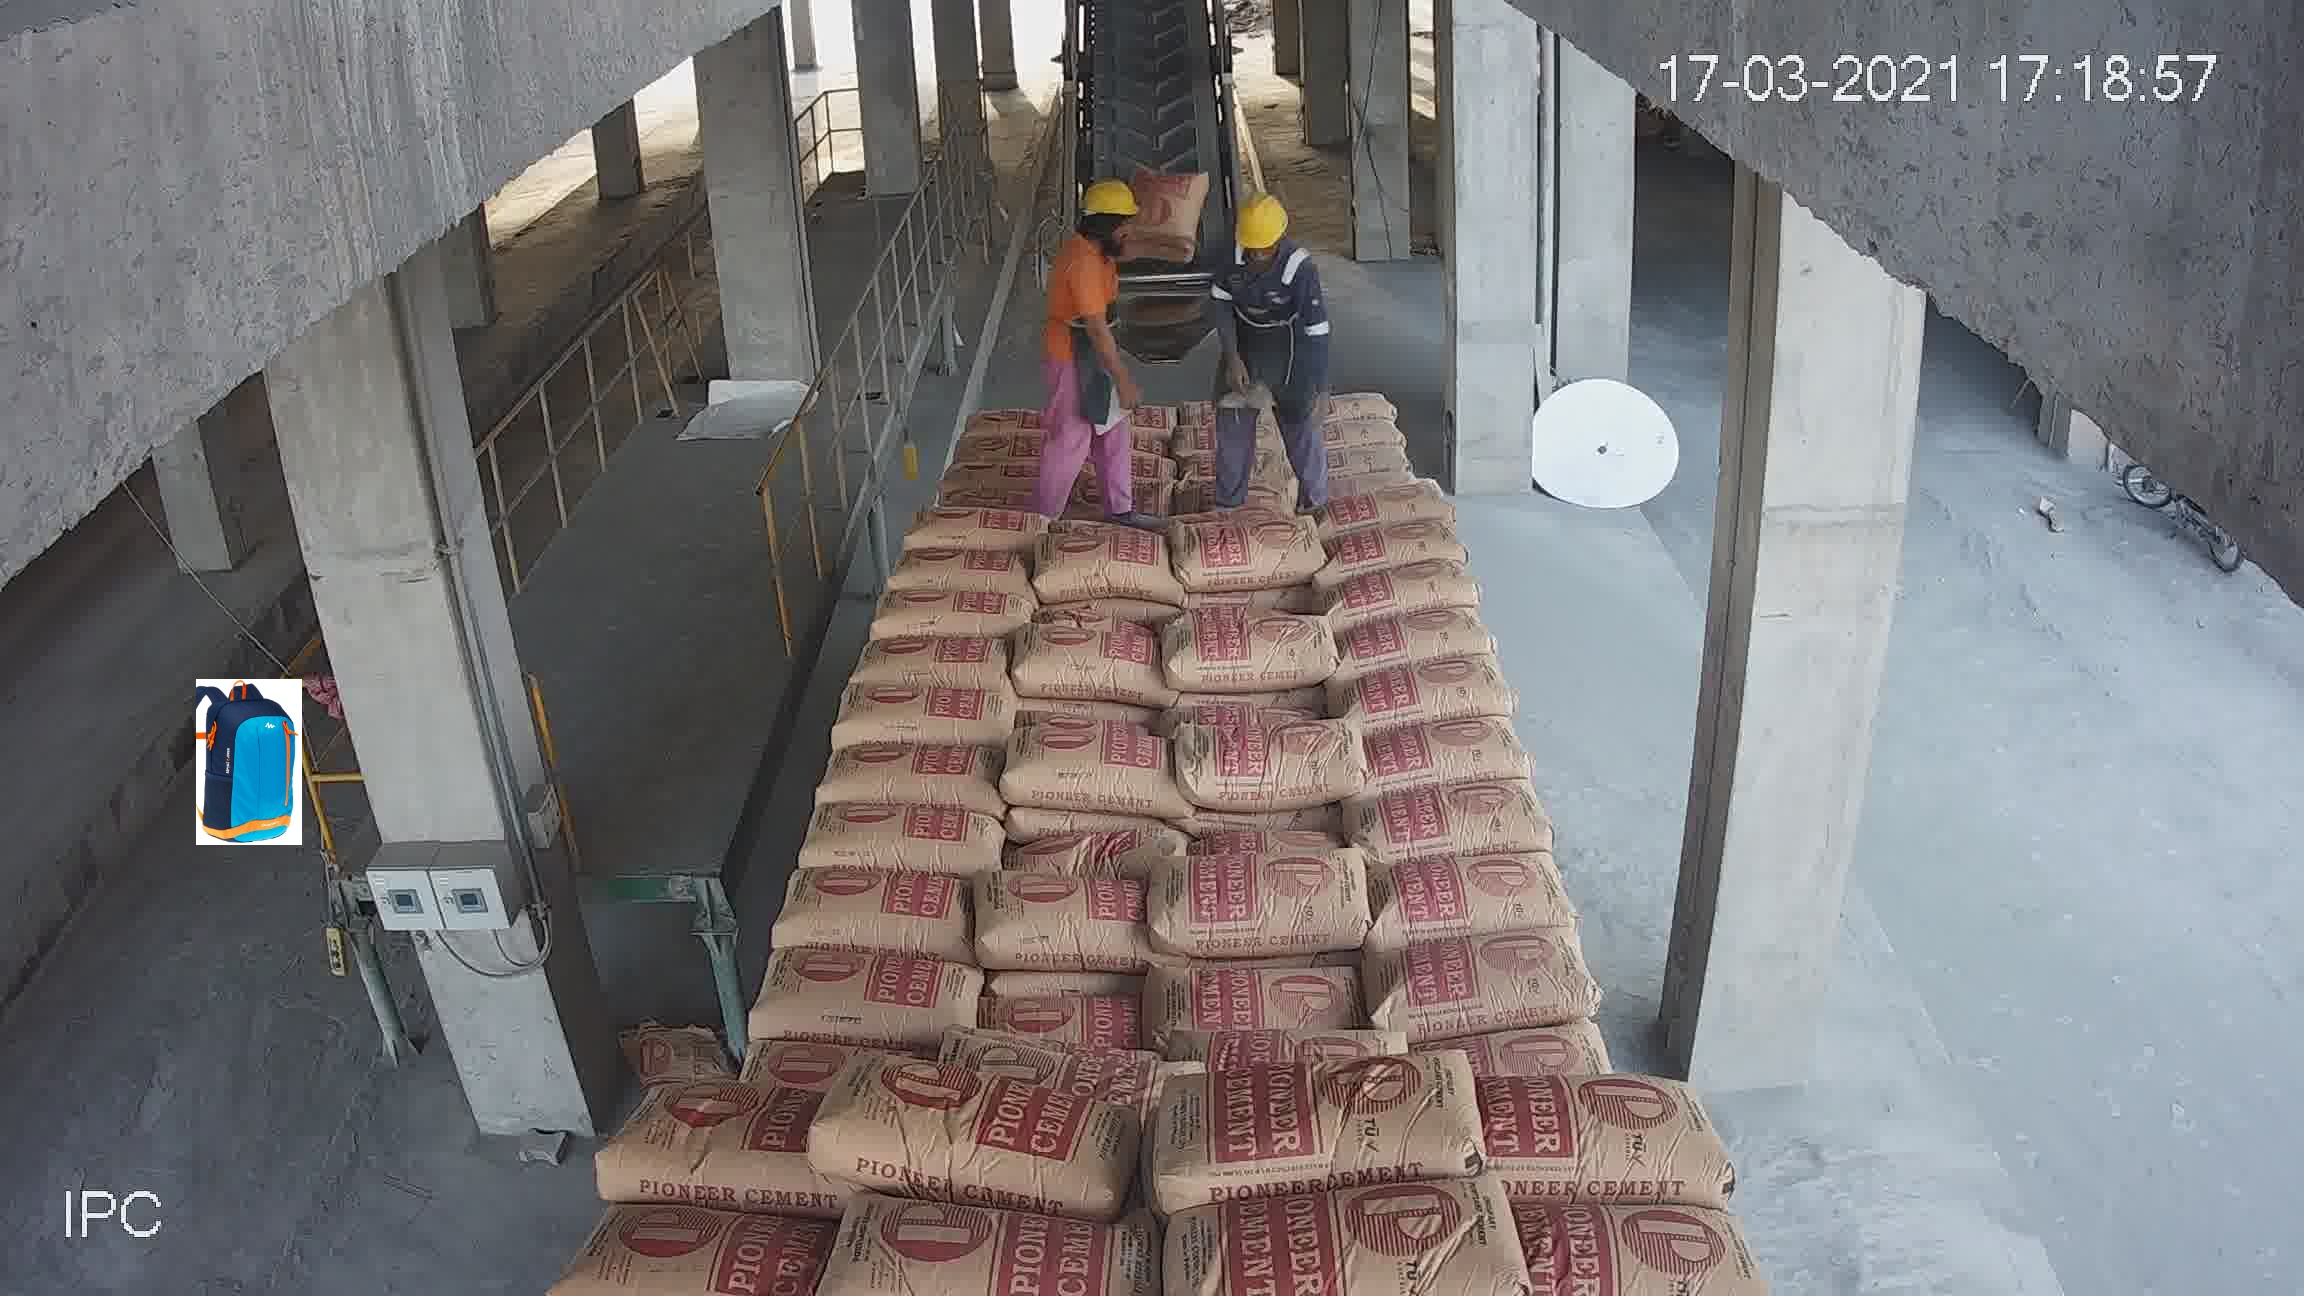bag: (1128, 166, 1204, 260)
bag_h: (1146, 1048, 1475, 1214), (810, 1060, 1112, 1225), (1188, 1157, 1514, 1296), (1462, 1071, 1747, 1196), (829, 1198, 1149, 1294), (1389, 921, 1622, 1048), (1119, 839, 1366, 957), (1353, 840, 1586, 957), (579, 1093, 817, 1203), (748, 951, 970, 1057), (761, 843, 965, 954), (567, 1201, 831, 1285), (1516, 1196, 1753, 1285), (1177, 698, 1362, 810), (1356, 782, 1567, 878), (1124, 961, 1351, 1049), (790, 790, 995, 872), (956, 877, 1146, 965), (1158, 1002, 1399, 1071), (831, 668, 1025, 747), (1310, 543, 1492, 627), (1374, 715, 1541, 805), (1348, 654, 1514, 744), (956, 1048, 1214, 1105), (802, 739, 1000, 812), (1336, 597, 1510, 679), (1011, 794, 1166, 885), (1005, 608, 1161, 695), (1173, 609, 1340, 690), (1173, 513, 1329, 598), (991, 742, 1173, 815), (961, 983, 1131, 1059), (837, 627, 1010, 696), (1464, 1013, 1630, 1082), (1021, 532, 1176, 600), (896, 498, 1059, 552), (881, 525, 1027, 585), (1315, 460, 1442, 529), (869, 589, 1041, 638), (1312, 519, 1478, 570), (904, 475, 1041, 517), (1173, 441, 1287, 491), (945, 446, 1051, 491), (1312, 429, 1402, 479), (1315, 404, 1404, 454), (940, 394, 1036, 437), (1063, 479, 1165, 519), (945, 430, 1052, 464), (1320, 381, 1412, 411)
belt: (1060, 17, 1241, 323)
